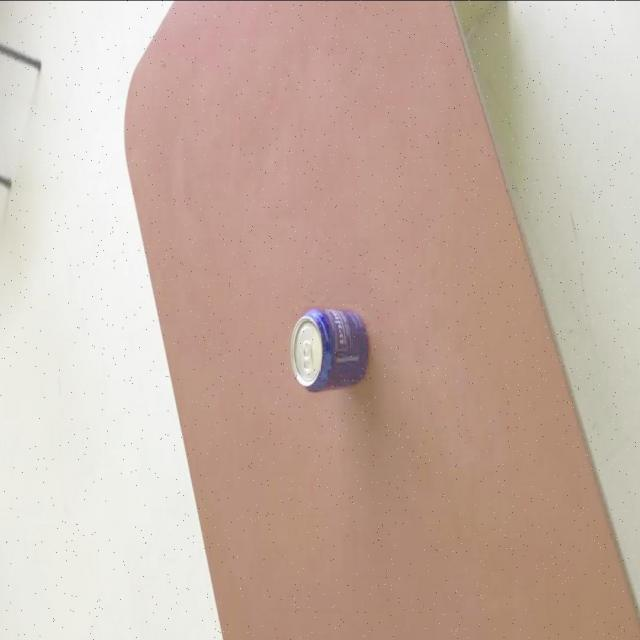Tonic: (289, 305, 368, 391)
